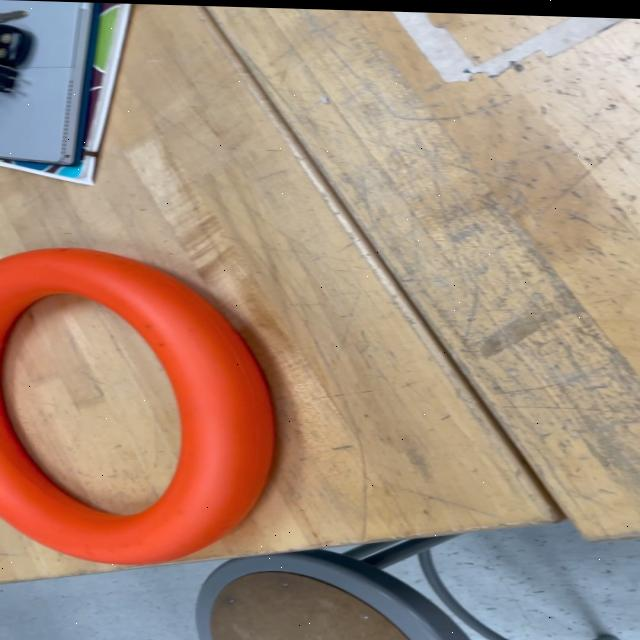note: (0, 249, 277, 568)
